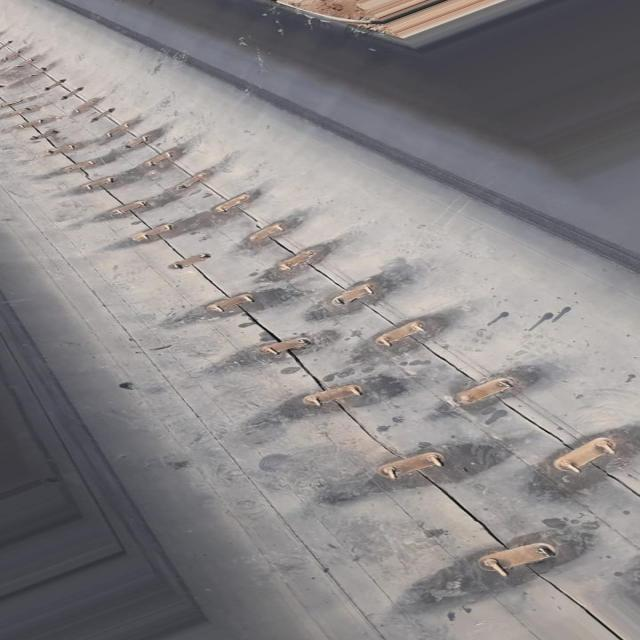patch work: (3, 14, 640, 630)
